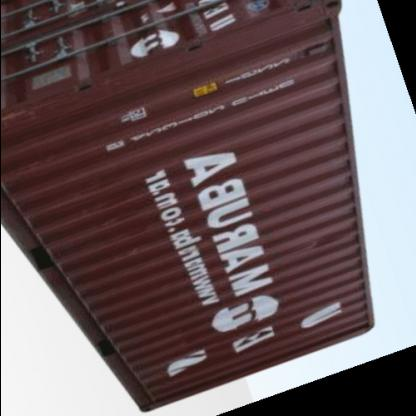Damage: (96, 198, 206, 274), (4, 102, 60, 130), (298, 224, 335, 264)
